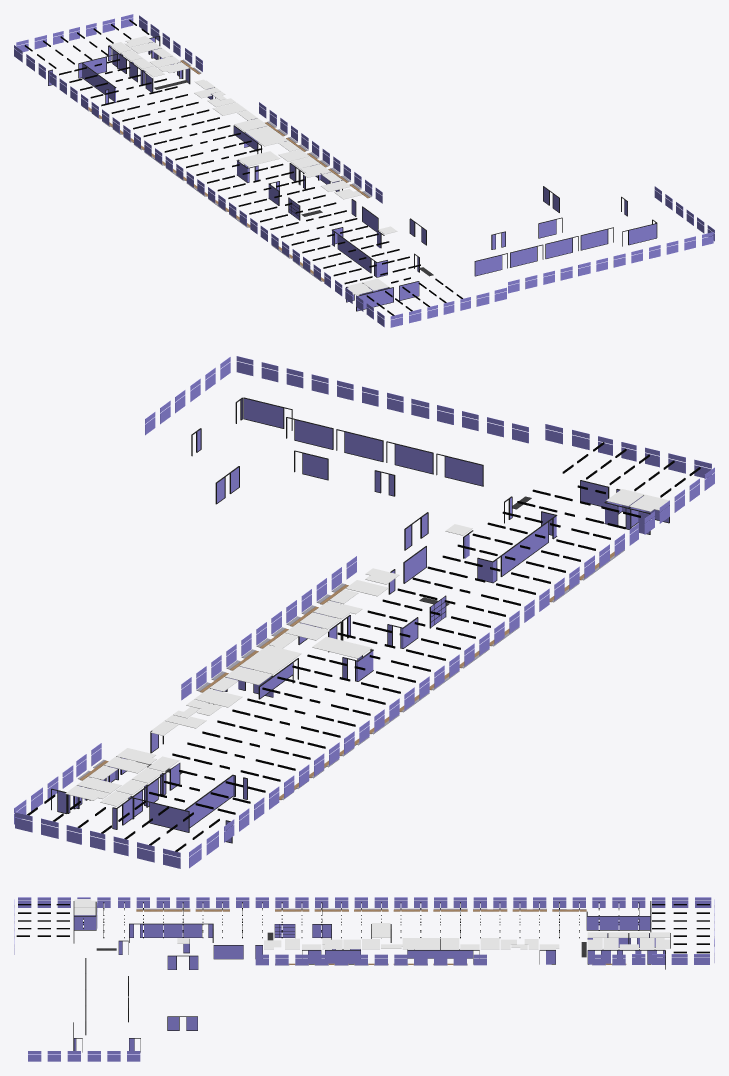
File: no-shadows.glb
The picture shows the model from 3 angles, top to bottom: view 1: azimuth 30°, elevation 25°; view 2: azimuth 150°, elevation 25°; view 3: azimuth 270°, elevation 25°; orthographic projection. The views are drawn at different scales.
Visible parts, largest first — view 1: glass.003, lighting grid.003, light housing.002, glass fixturing.003, window shelf.002, wooden bar.002; view 2: glass.003, lighting grid.003, light housing.002, glass fixturing.003, window shelf.002, wooden bar.002; view 3: glass.003, lighting grid.003, glass fixturing.003, light housing.002, wooden bar.002, window shelf.002, light diffuser.002.
Boxes of the visible parts, x1,y1,x2,y2 form: glass.003: (14, 14, 714, 327); lighting grid.003: (109, 36, 397, 295); light housing.002: (24, 19, 462, 315); glass fixturing.003: (48, 35, 657, 311); window shelf.002: (82, 59, 371, 281); wooden bar.002: (88, 60, 369, 281); glass.003: (14, 356, 714, 868); lighting grid.003: (65, 489, 668, 806); light housing.002: (27, 442, 700, 851); glass fixturing.003: (51, 397, 669, 843); window shelf.002: (78, 550, 624, 799); wooden bar.002: (79, 551, 614, 799); glass.003: (14, 897, 714, 1061); lighting grid.003: (74, 899, 670, 949); glass fixturing.003: (73, 901, 670, 1052); light housing.002: (16, 902, 709, 953); wooden bar.002: (136, 909, 626, 964); window shelf.002: (136, 908, 625, 965); light diffuser.002: (83, 903, 638, 936).
Bounding box in the file's own units: 58.24 × 2.95 × 112.
8 materials, 2 textured.
